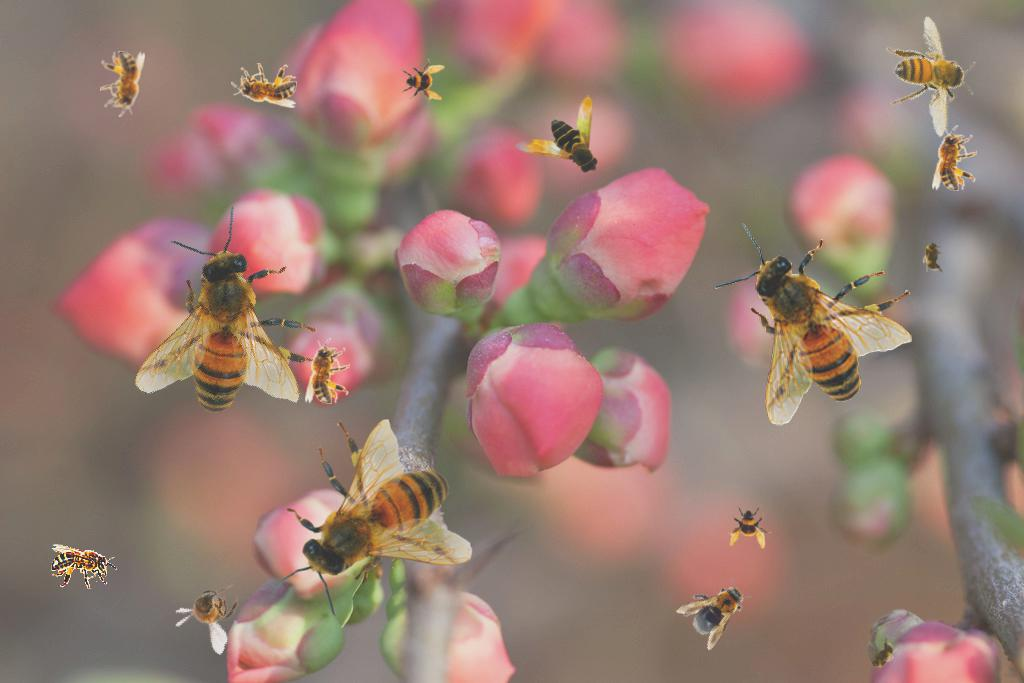Bee: (86, 187, 369, 471), (269, 419, 473, 618), (713, 222, 912, 426), (861, 7, 1000, 151), (166, 566, 251, 656), (674, 566, 760, 652), (513, 95, 601, 177), (51, 544, 117, 589), (932, 125, 977, 191), (100, 51, 145, 117), (231, 63, 297, 108), (305, 338, 350, 404), (860, 633, 904, 679), (728, 505, 772, 549), (401, 58, 445, 102), (922, 236, 944, 276)
